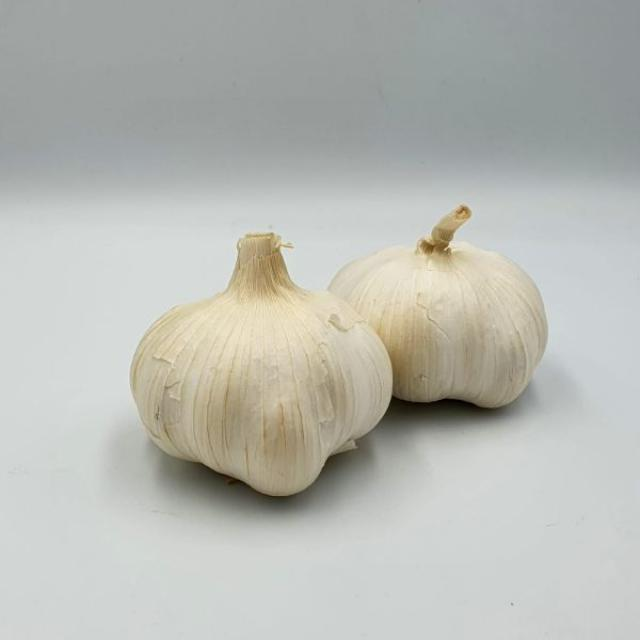garlic: (97, 268, 400, 524)
